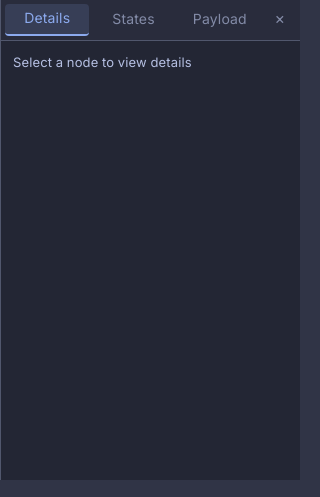
InspectorSidebar › controlled selectedAggregateId displays correct state machine
Click the button with test id "inspector-tab-state-machine" at (133, 20), box [91,4,176,36]
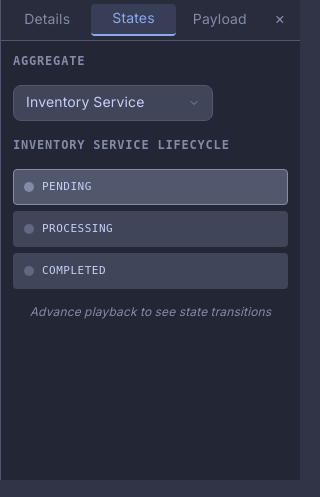
Now the button with test id "state-PENDING" is shown, box [13,169,288,205]
Now the button with test id "state-PROCESSING" is shown, box [13,211,288,247]
Now the button with test id "state-COMPLETED" is shown, box [13,253,288,289]
